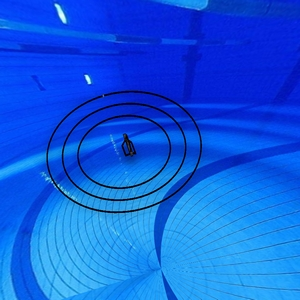circle: (45, 89, 207, 217)
submarine: (115, 132, 142, 161)
